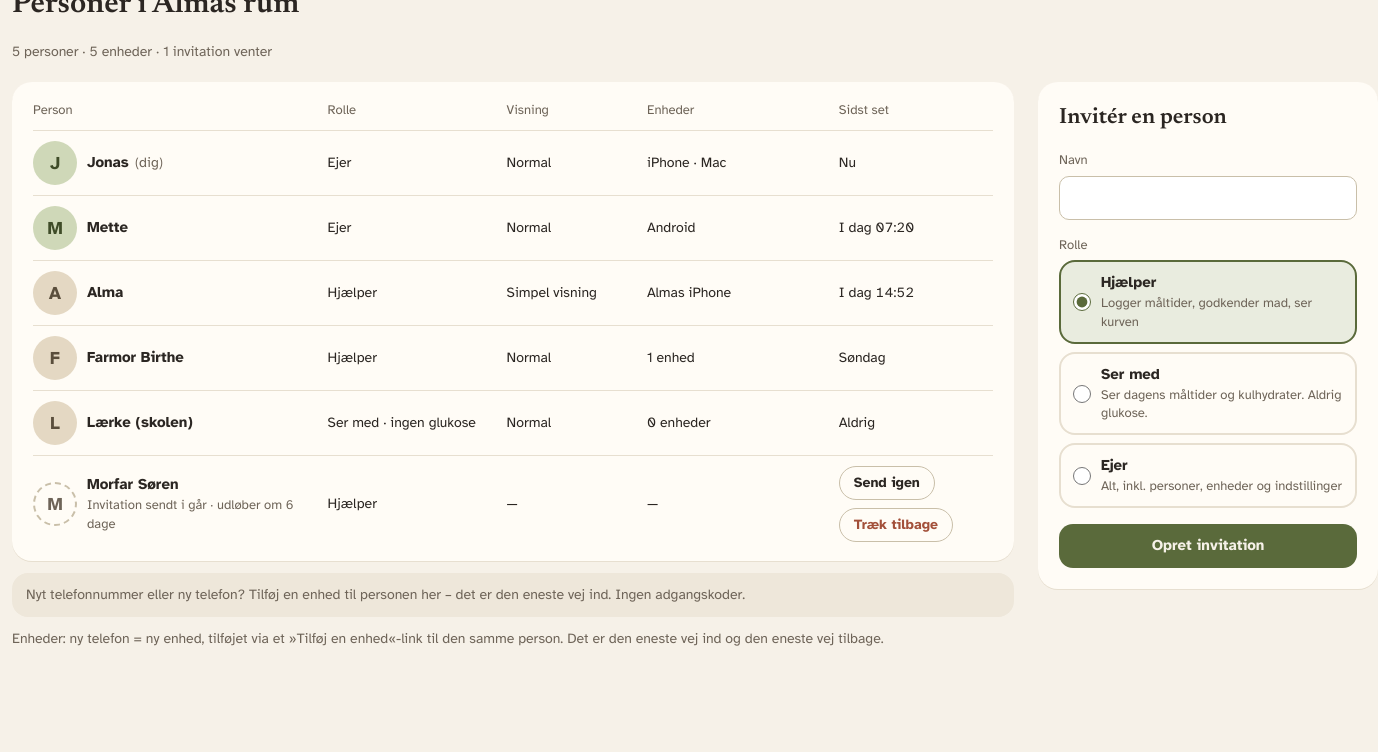
Test: PeopleScreen · a member's devices and role (design gap: phone detail) › opens the member on click and lists the devices with when each was last seen
Click the row with test id "member-row" that starts with "Jonas" at [513, 163], box [33,131,993,196]
(page scrolled)
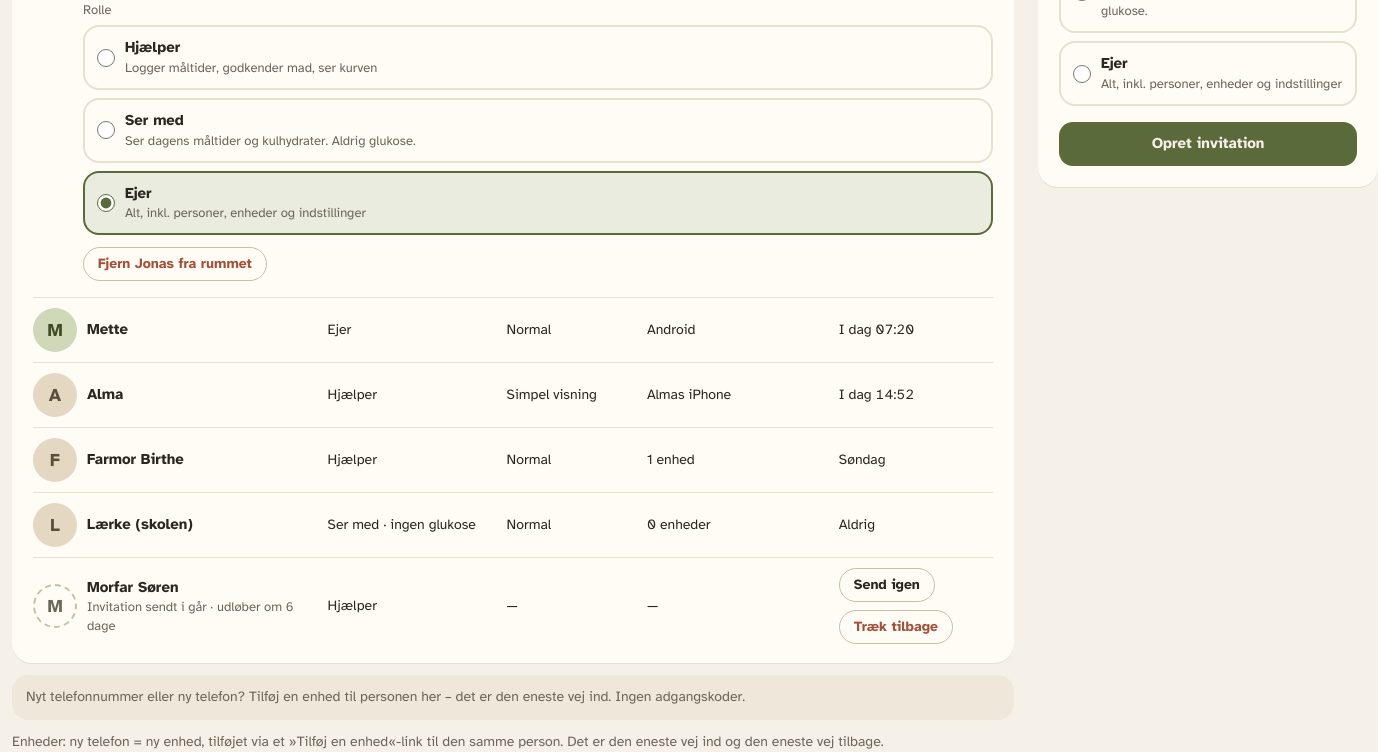
Click the row with test id "member-row" that starts with "Alma" at [513, 396], box [33,363,993,428]
(page scrolled)
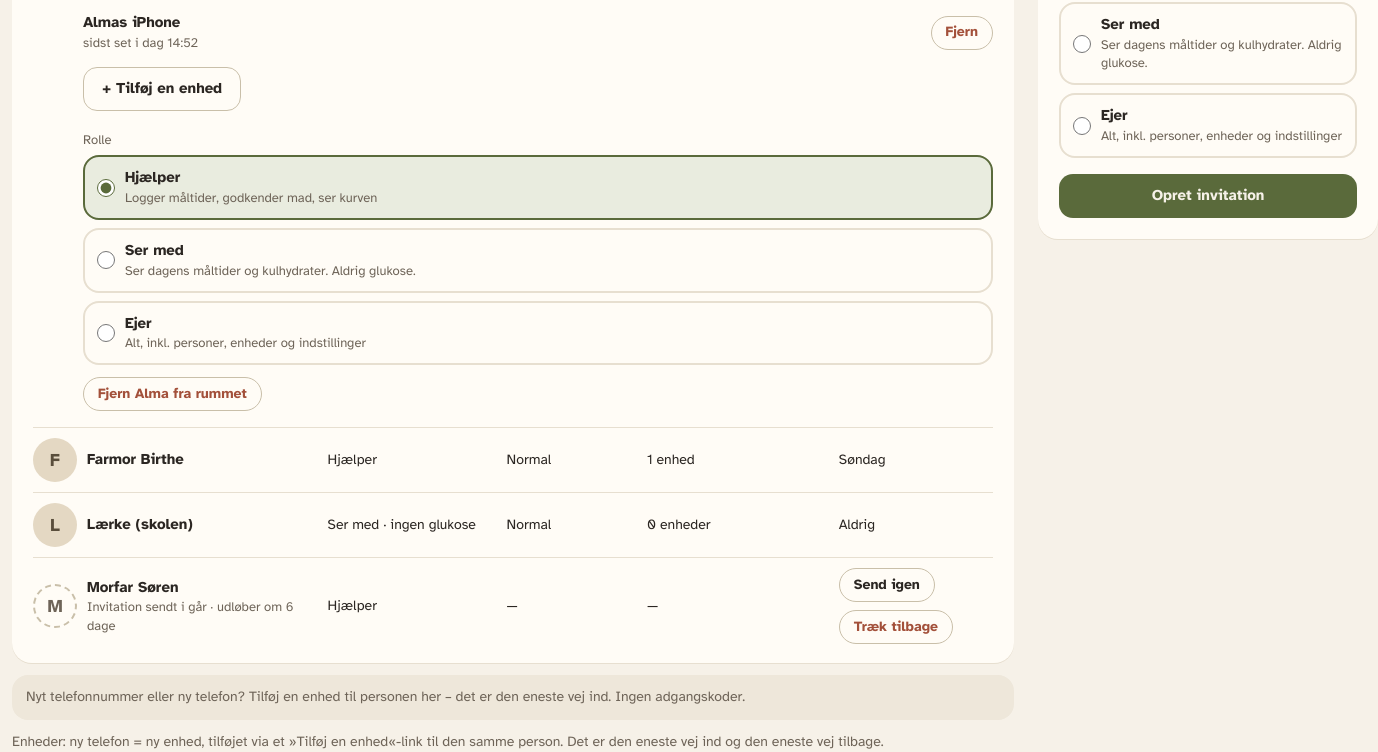
Result: the list item with test id "device" shows "sidst set i dag 14:52" at [83,35,198,51]
Click the row with test id "member-row" that starts with "Farmor Birthe" at [513, 461], box [33,428,993,493]
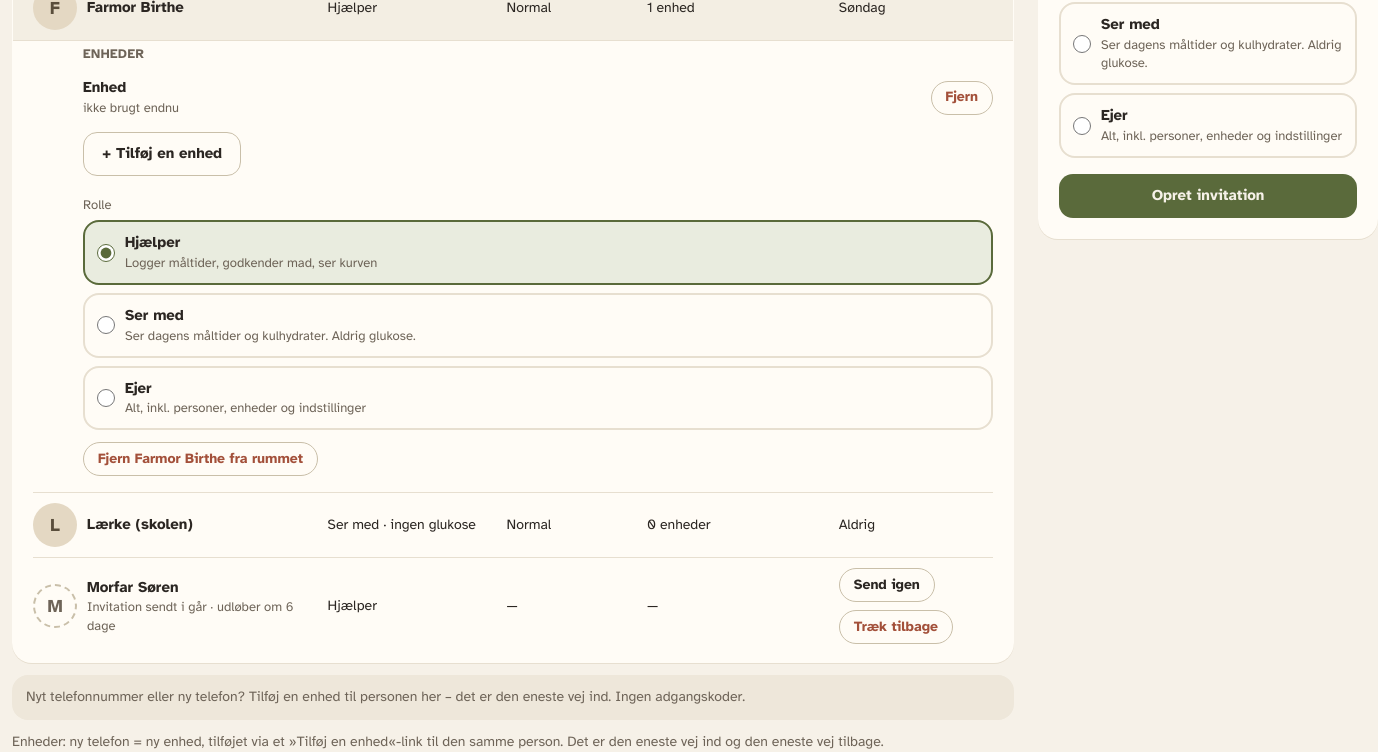
Result: the list item with test id "device" shows "Enhed" at [83,78,126,96]
Result: the list item with test id "device" shows "ikke brugt endnu" at [83,100,179,116]
